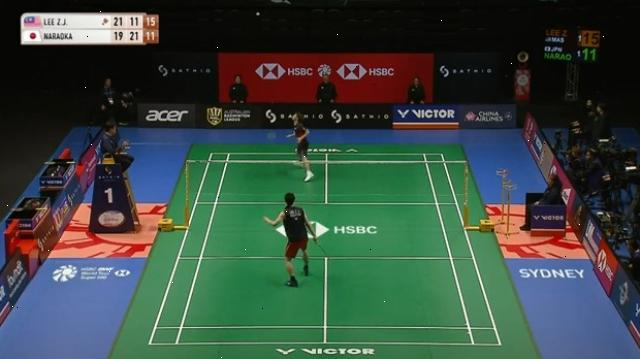Shuttlecock: (253, 9, 265, 18)
